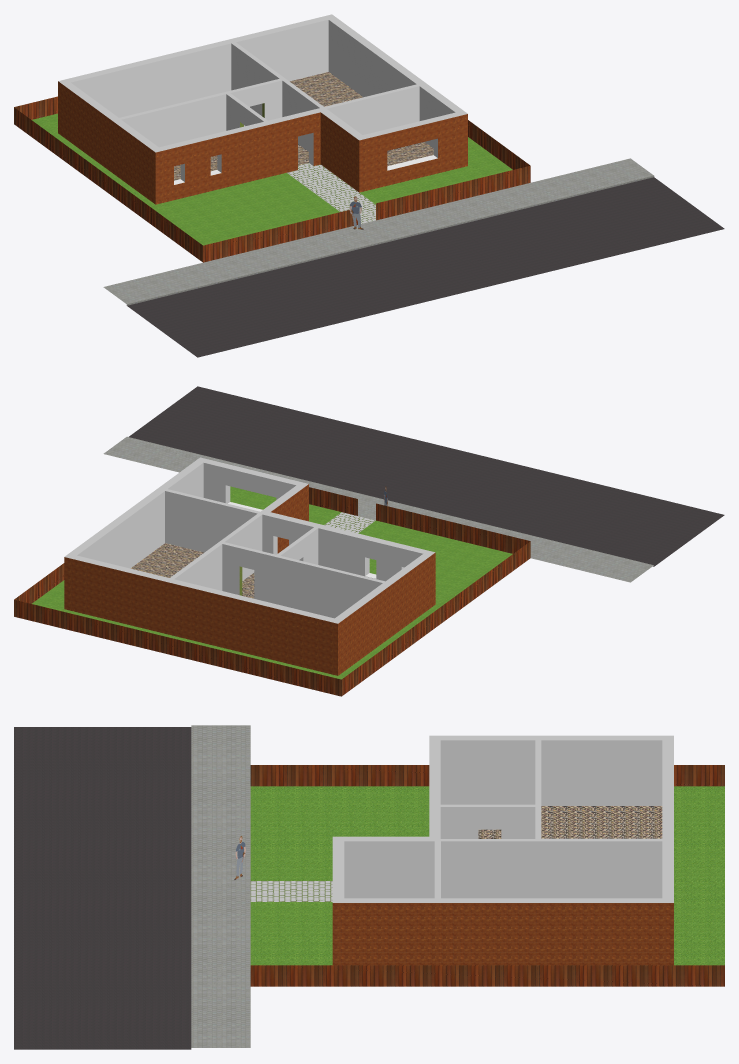
File: GruppeG.glb
3 views of the same model, one above another, from view 1: azimuth 30°, elevation 25°; view 2: azimuth 150°, elevation 25°; view 3: azimuth 270°, elevation 25° (orthographic). The views are drawn at different scales.
Parts seen in each view (by area): view 1: ID465, ID499, ID541, ID452, ID478, SketchUp, ID547, ID491, ID553, ID614, ID525, ID533; view 2: ID465, ID499, SketchUp, ID541, ID478, ID547, ID452, ID491, ID553, ID525, ID614; view 3: ID465, ID478, ID499, ID452, ID541, SketchUp, ID547, ID491, ID553, ID512, ID614.
Boxes of the visible parts, x1,y1,x2,y2 form: ID465: (127,177,724,357); ID499: (58,81,467,204); ID541: (71,43,319,165); ID452: (103,158,654,305); ID478: (32,113,512,245); SketchUp: (14,96,530,262); ID547: (236,20,416,97); ID491: (58,14,467,152); ID553: (327,86,455,148); ID614: (287,163,375,223); ID525: (289,72,362,106); ID533: (387,142,433,166); ID465: (129,386,724,566); ID499: (64,484,435,675); SketchUp: (14,487,530,696); ID541: (174,514,422,618); ID478: (32,486,512,679); ID547: (77,491,257,568); ID452: (103,436,653,582); ID491: (64,457,435,623); ID553: (168,462,295,502); ID525: (130,543,203,577); ID614: (324,512,375,533); ID465: (14,727,191,1049); ID478: (250,786,724,965); ID499: (332,903,673,965); ID452: (191,725,250,1047); ID541: (440,740,662,838); SketchUp: (250,765,724,986); ID547: (441,841,662,898); ID491: (332,735,673,902); ID553: (344,841,434,898); ID512: (478,806,662,838); ID614: (250,881,332,901).
Bounding box in the file's own units: 32.2 × 3.13 × 29.98.
86 materials, 13 textured.
